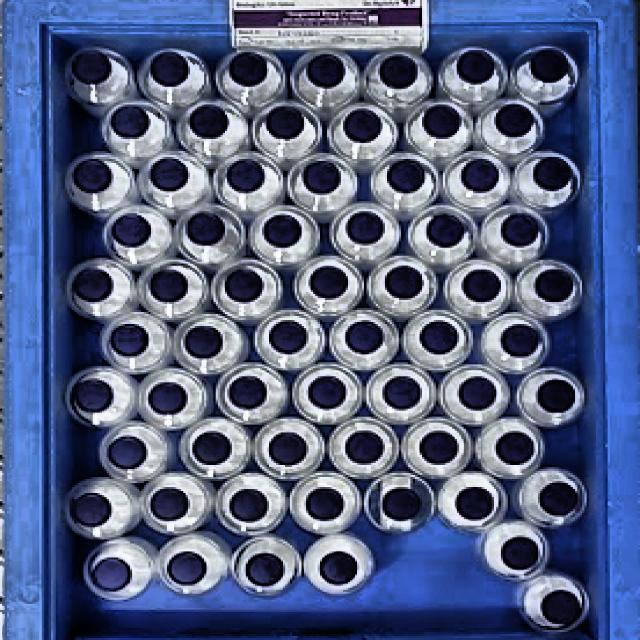vial: (542, 590, 582, 626), (72, 267, 112, 301), (72, 379, 112, 413), (91, 557, 131, 591), (382, 487, 422, 521), (426, 214, 467, 247), (73, 159, 112, 193), (150, 157, 189, 191), (226, 159, 265, 193), (150, 487, 189, 521), (167, 551, 206, 585), (305, 487, 344, 521), (111, 214, 151, 247), (71, 493, 111, 526), (380, 55, 418, 89), (457, 50, 495, 84), (531, 49, 569, 83), (387, 159, 425, 193), (459, 376, 497, 410), (501, 536, 539, 570), (72, 51, 111, 84), (310, 266, 349, 299), (462, 270, 501, 303), (108, 436, 147, 469), (268, 433, 307, 466), (419, 431, 458, 464), (537, 380, 576, 413), (461, 159, 498, 193), (150, 269, 187, 303), (320, 551, 357, 585), (151, 53, 189, 86), (266, 106, 304, 139), (344, 110, 382, 143), (302, 161, 340, 194), (347, 211, 385, 244), (534, 157, 572, 190), (184, 326, 222, 359), (269, 321, 307, 354), (308, 376, 346, 409), (383, 376, 421, 409), (501, 214, 540, 246), (109, 324, 148, 356), (148, 383, 187, 415), (229, 53, 266, 86), (307, 54, 344, 87), (225, 269, 262, 302), (229, 376, 266, 409), (346, 321, 383, 354), (385, 266, 422, 299), (421, 321, 458, 354), (346, 431, 383, 464), (457, 487, 494, 520), (190, 105, 228, 137), (423, 105, 461, 137), (187, 213, 225, 245), (230, 489, 268, 521), (246, 554, 284, 586), (540, 483, 578, 515), (495, 105, 534, 136), (501, 325, 540, 356), (264, 215, 301, 247), (193, 433, 230, 465), (536, 270, 573, 302), (497, 433, 534, 465), (111, 106, 148, 137)
